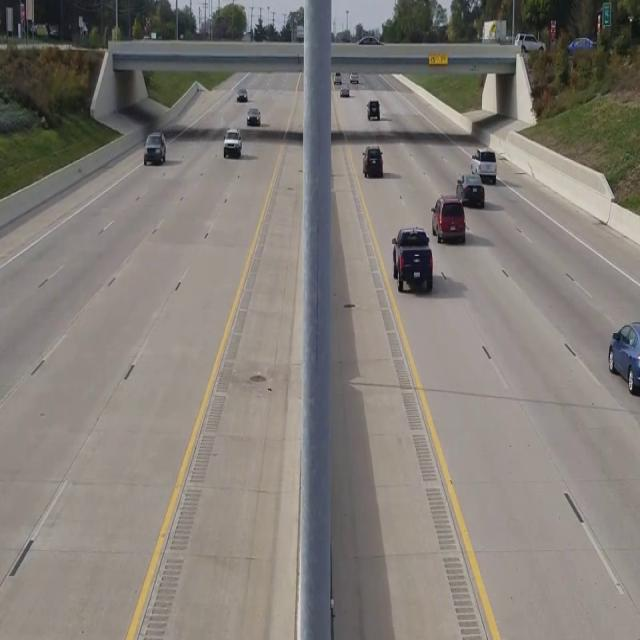car: (607, 321, 640, 397), (362, 144, 383, 177), (144, 132, 165, 164), (223, 128, 241, 159), (567, 36, 594, 54)
